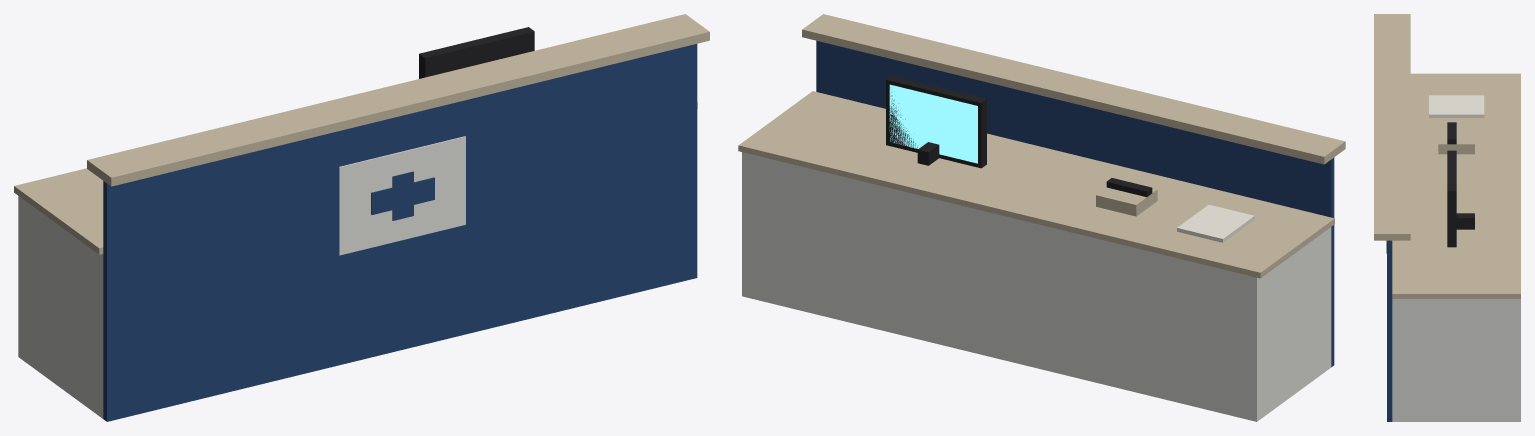
Rendered from clinic_reception.glb.
3 views of the same model, side by side, from view 1: azimuth 30°, elevation 25°; view 2: azimuth 150°, elevation 25°; view 3: azimuth 270°, elevation 25° (orthographic). The views are drawn at different scales.
Parts seen in each view (by area): view 1: clinic_reception; view 2: clinic_reception; view 3: clinic_reception.
Part boxes in pixels (bbox=[...]): clinic_reception: bbox=[14, 14, 709, 421]; clinic_reception: bbox=[738, 14, 1345, 421]; clinic_reception: bbox=[1374, 14, 1520, 421].
Size of the model in its own units: 2.84 by 1.14 by 0.8.
Materials: 1 (1 with a texture image).
